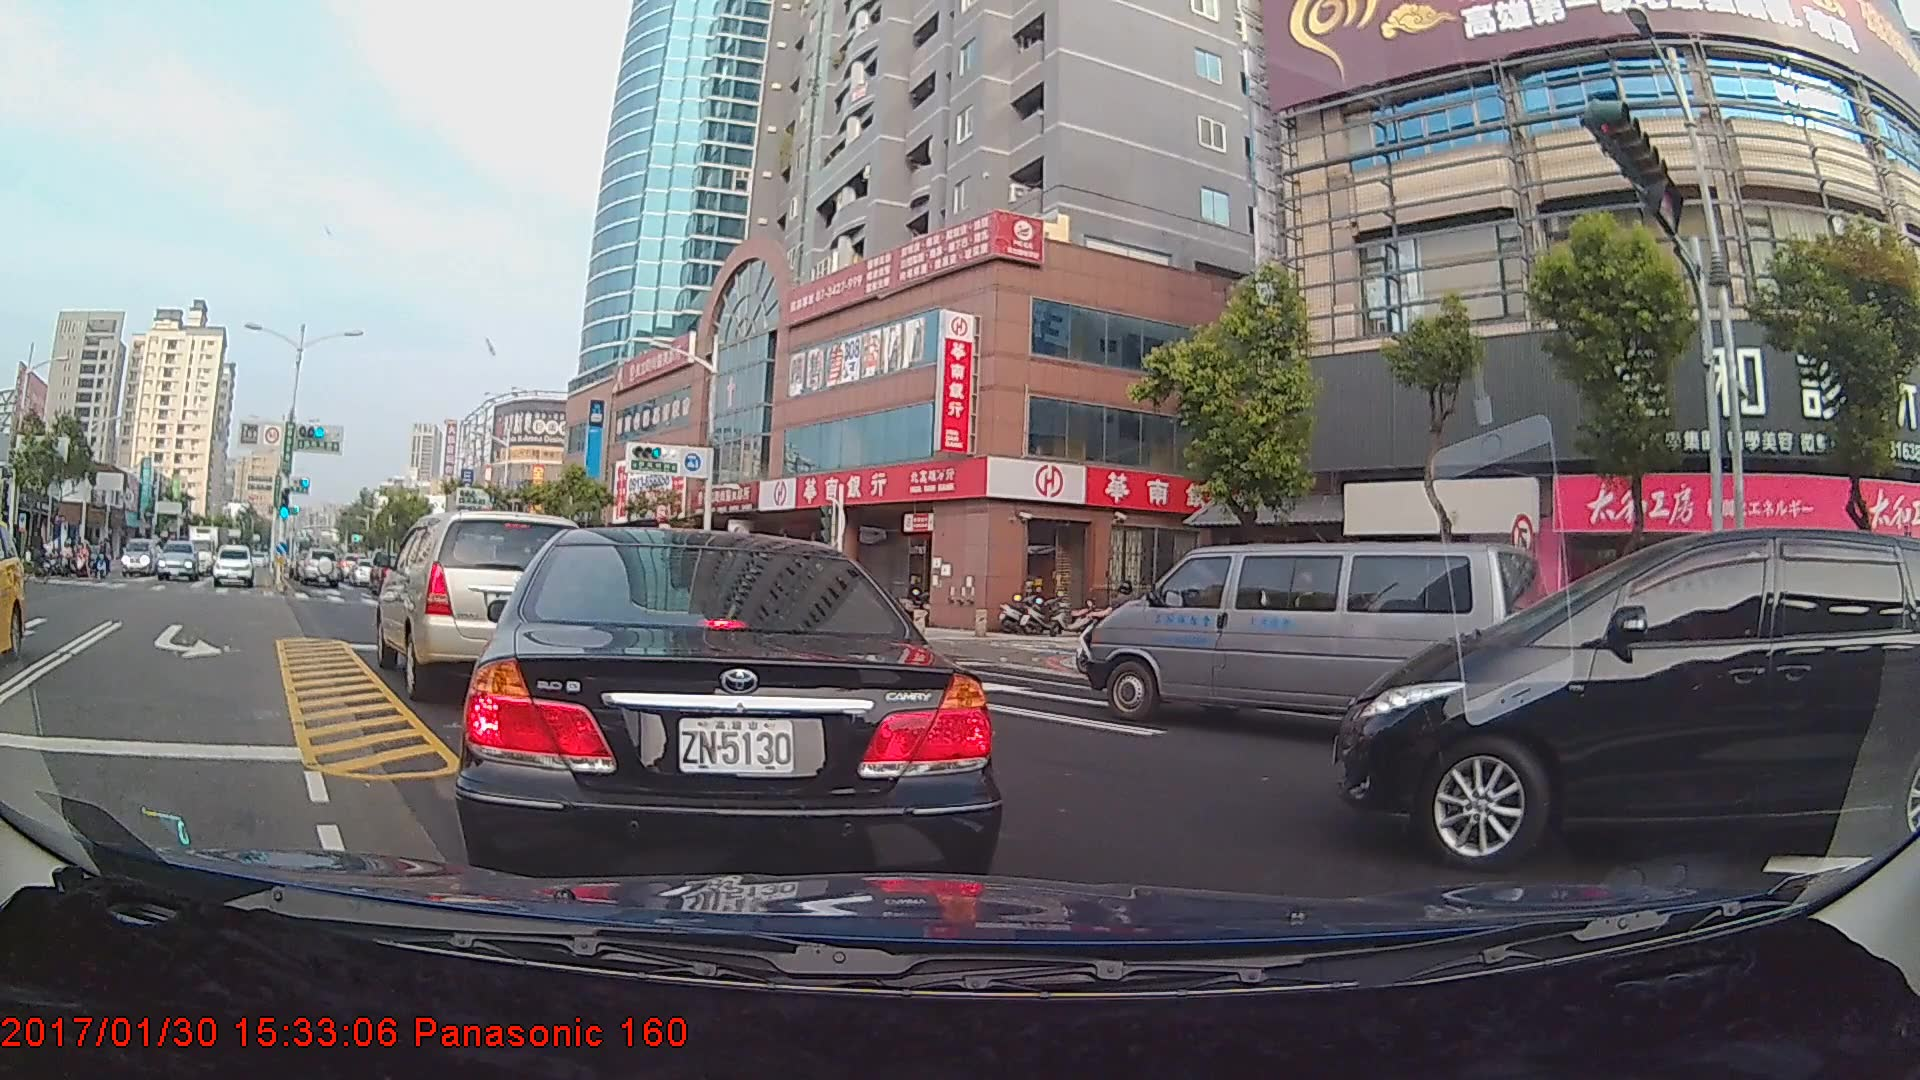rider: (1068, 568, 1171, 687), (20, 531, 58, 587)
vehicle: (1339, 523, 1906, 896), (460, 524, 982, 892), (1092, 541, 1566, 740), (374, 504, 588, 699), (0, 522, 26, 656), (178, 522, 242, 571), (297, 546, 345, 588), (155, 539, 201, 583), (212, 542, 255, 588), (121, 536, 163, 577)
